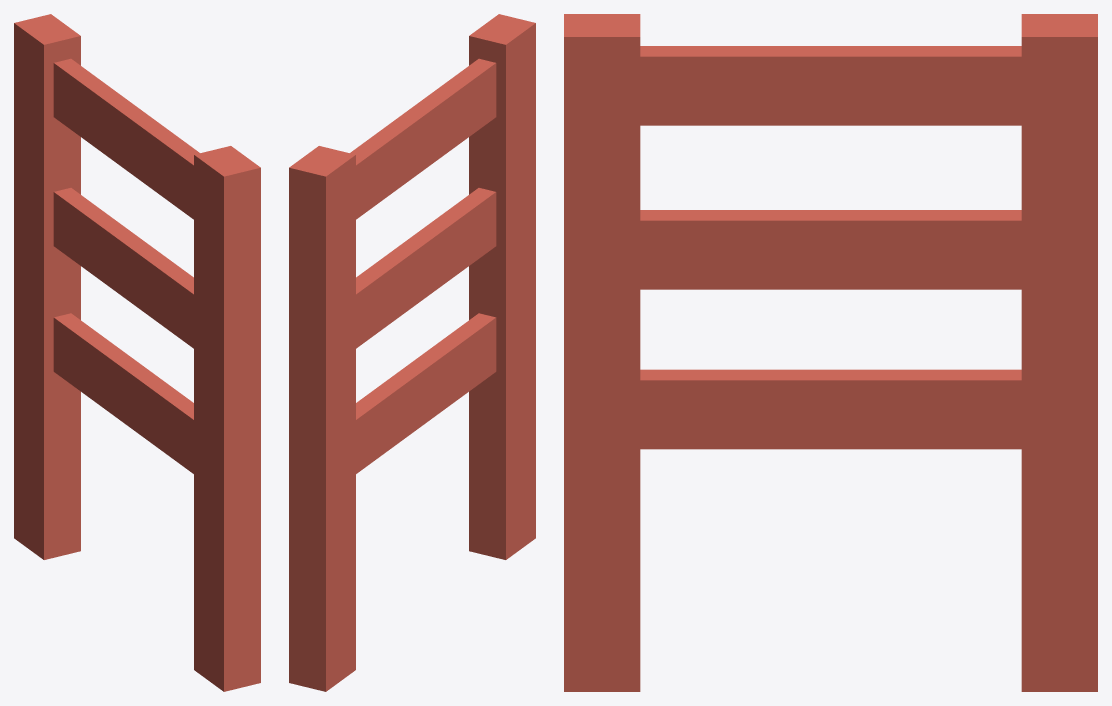
The model's file is ChairBack2.fbx.
3 views of the same model, side by side, from view 1: azimuth 30°, elevation 25°; view 2: azimuth 150°, elevation 25°; view 3: azimuth 270°, elevation 25° (orthographic). The views are drawn at different scales.
Parts seen in each view (by area): view 1: ChairBack2; view 2: ChairBack2; view 3: ChairBack2.
Part boxes in pixels (x1=…): ChairBack2: x1=14, y1=14, x2=260, y2=691; ChairBack2: x1=289, y1=14, x2=535, y2=691; ChairBack2: x1=564, y1=14, x2=1097, y2=691.
Size of the model in its own units: 0.0487 by 0.65 by 0.48.
